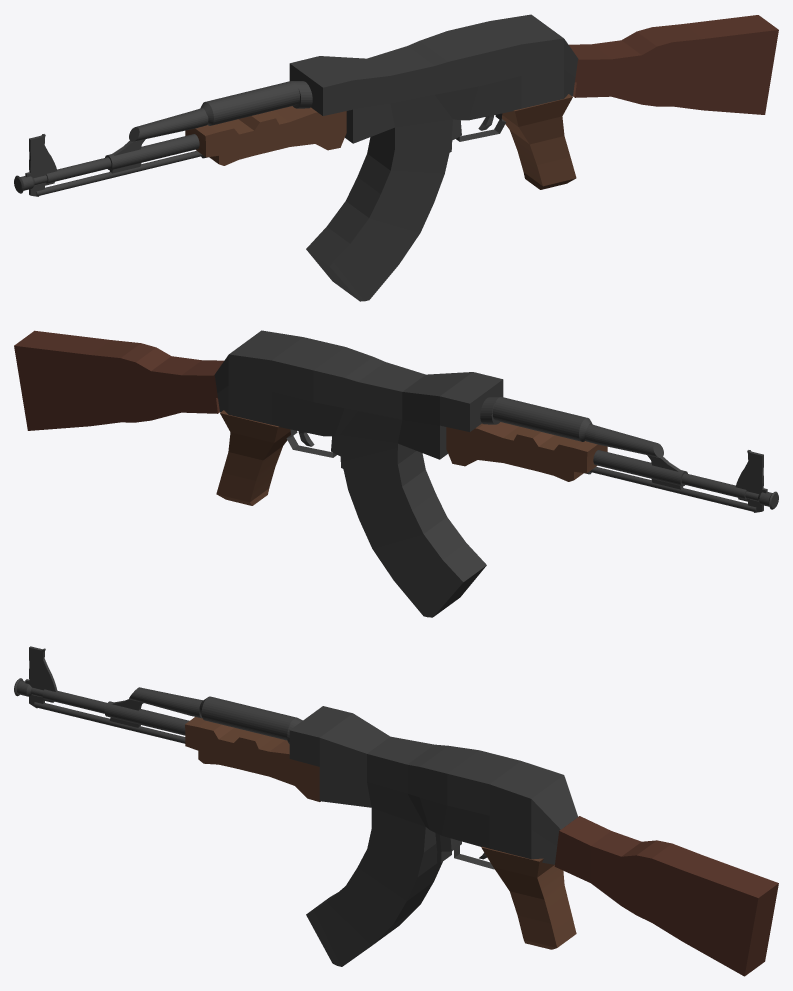
The picture shows the model from 3 angles, top to bottom: view 1: azimuth 30°, elevation 25°; view 2: azimuth 150°, elevation 25°; view 3: azimuth 330°, elevation 25°; orthographic projection.
Visible parts, largest first — view 1: 円柱; view 2: 円柱; view 3: 円柱.
Part boxes in pixels (x1=…): 円柱: x1=14, y1=14, x2=778, y2=301; 円柱: x1=14, y1=330, x2=778, y2=617; 円柱: x1=14, y1=646, x2=778, y2=976.
Size of the model in its own units: 986 by 291 by 76.54.
